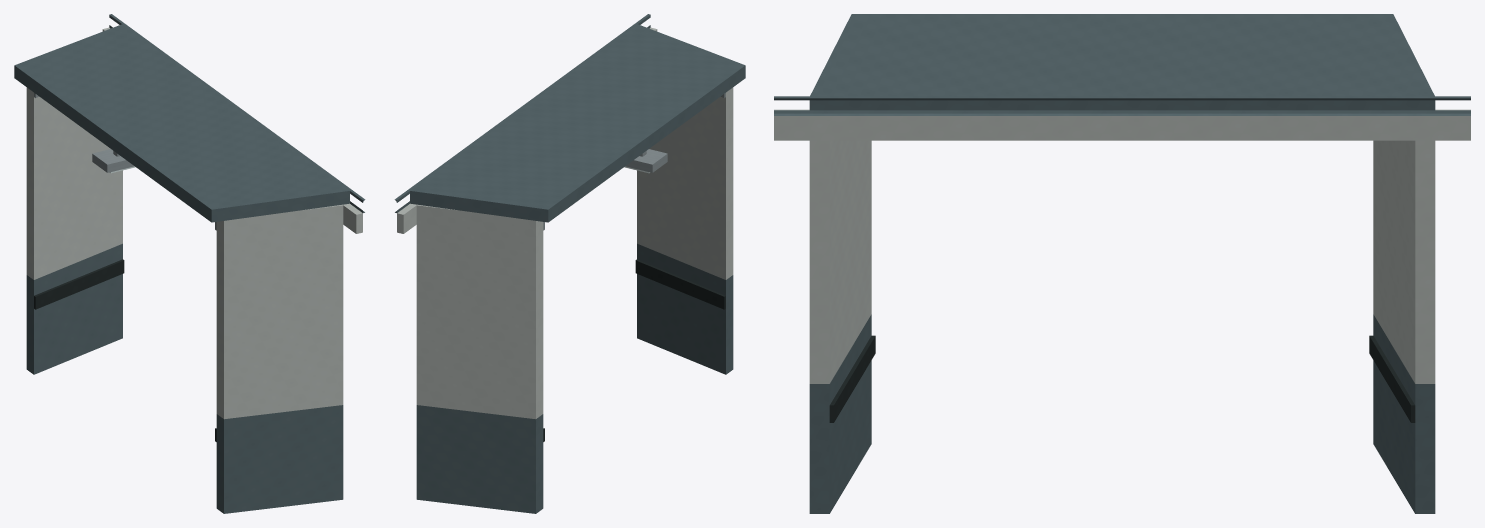
File: AST-STF-G3-018.glb
The picture shows the model from 3 angles, left to right: view 1: azimuth 30°, elevation 25°; view 2: azimuth 150°, elevation 25°; view 3: azimuth 270°, elevation 25°; orthographic projection. The views are drawn at different scales.
Visible parts, largest first — view 1: screen_wall_staff_white_paint_recreation_receiver, overhead_staff_bluegrey_paint_recreation_receiver, screen_wall_staff_bluegrey_paint_recreation_receiver, screen_wall_staff_rubber_recreation_receiver, lighting_fixture_staff_zinc_recreation_receiver, receiver_trim_staff_white_paint_recreation_receiver; view 2: screen_wall_staff_white_paint_recreation_receiver, overhead_staff_bluegrey_paint_recreation_receiver, screen_wall_staff_bluegrey_paint_recreation_receiver, screen_wall_staff_rubber_recreation_receiver, lighting_fixture_staff_zinc_recreation_receiver, receiver_trim_staff_white_paint_recreation_receiver; view 3: overhead_staff_bluegrey_paint_recreation_receiver, screen_wall_staff_white_paint_recreation_receiver, receiver_trim_staff_white_paint_recreation_receiver, screen_wall_staff_bluegrey_paint_recreation_receiver, screen_wall_staff_rubber_recreation_receiver.
Part boxes in pixels (x1,y1,x2,y2): screen_wall_staff_white_paint_recreation_receiver: (26, 87, 343, 419); overhead_staff_bluegrey_paint_recreation_receiver: (14, 14, 365, 222); screen_wall_staff_bluegrey_paint_recreation_receiver: (26, 243, 343, 513); screen_wall_staff_rubber_recreation_receiver: (34, 259, 216, 441); lighting_fixture_staff_zinc_recreation_receiver: (92, 149, 134, 172); receiver_trim_staff_white_paint_recreation_receiver: (102, 27, 362, 233); screen_wall_staff_white_paint_recreation_receiver: (416, 87, 733, 419); overhead_staff_bluegrey_paint_recreation_receiver: (394, 14, 745, 222); screen_wall_staff_bluegrey_paint_recreation_receiver: (416, 243, 733, 513); screen_wall_staff_rubber_recreation_receiver: (543, 259, 725, 441); lighting_fixture_staff_zinc_recreation_receiver: (625, 149, 667, 172); receiver_trim_staff_white_paint_recreation_receiver: (397, 27, 657, 233); overhead_staff_bluegrey_paint_recreation_receiver: (774, 14, 1470, 115); screen_wall_staff_white_paint_recreation_receiver: (809, 140, 1435, 383); receiver_trim_staff_white_paint_recreation_receiver: (774, 109, 1470, 140); screen_wall_staff_bluegrey_paint_recreation_receiver: (809, 314, 1435, 513); screen_wall_staff_rubber_recreation_receiver: (829, 335, 1415, 422).
Size of the model in its own units: 1.58 by 3.34 by 5.
5 materials, 5 textured.
